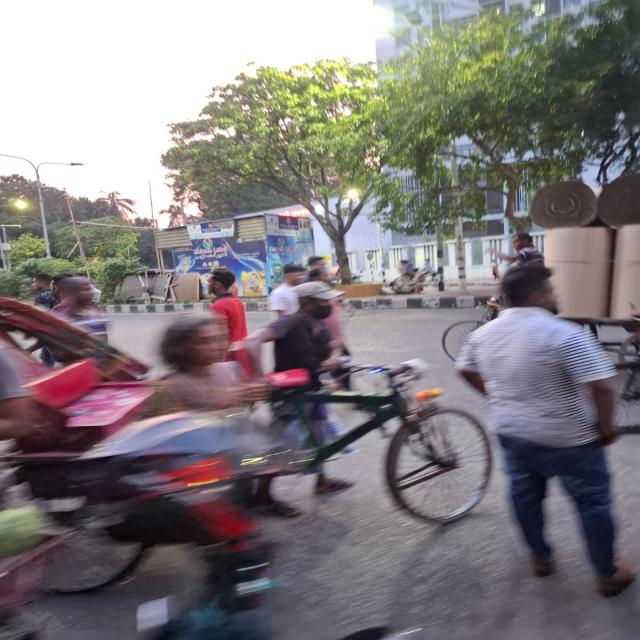person: (457, 263, 629, 587), (204, 269, 250, 326), (62, 276, 98, 319), (278, 262, 302, 316), (29, 274, 52, 306)
